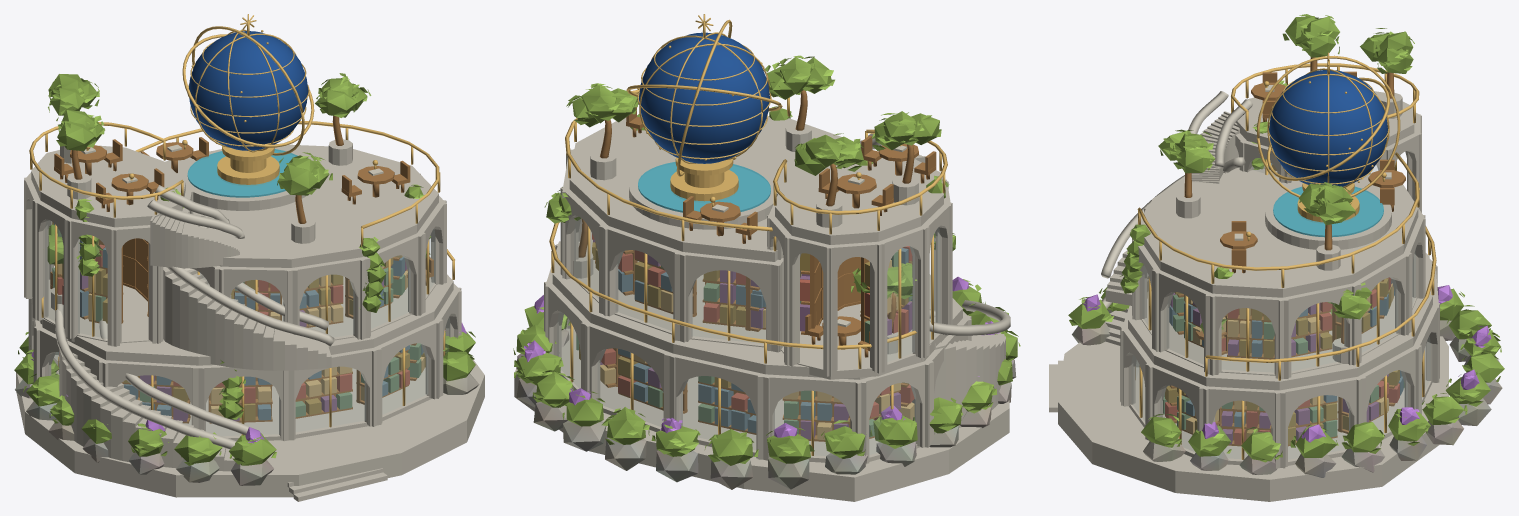
File: wisdom-v01.glb
The picture shows the model from 3 angles, left to right: view 1: azimuth 30°, elevation 25°; view 2: azimuth 150°, elevation 25°; view 3: azimuth 270°, elevation 25°; orthographic projection. The views are drawn at different scales.
Parts seen in each view (by area): view 1: archive-terraces-L1-S1-archive-warm-limestone, archive-wings-L2-S2-archive-warm-limestone, archive-wings-L1-S2-archive-warm-limestone, archive-wings-L3-S2-archive-warm-limestone, archive-globe-L2-S4-archive-celestial-blue, archive-terraces-L2-S1-archive-warm-limestone, archive-wings-L1-S5-archive-clear-window-glass, archive-wings-L1-S3-archive-books-and-walnut, archive-terraces-L2-S4-archive-garden-colors, archive-terraces-L3-S4-archive-garden-colors, archive-wings-L2-S5-archive-clear-window-glass, archive-terraces-L1-S5-archive-warm-limestone (+25 smaller); view 2: archive-wings-L2-S2-archive-warm-limestone, archive-wings-L3-S2-archive-warm-limestone, archive-wings-L1-S2-archive-warm-limestone, archive-terraces-L1-S1-archive-warm-limestone, archive-globe-L2-S4-archive-celestial-blue, archive-wings-L1-S5-archive-clear-window-glass, archive-terraces-L3-S4-archive-garden-colors, archive-terraces-L2-S4-archive-garden-colors, archive-wings-L1-S3-archive-books-and-walnut, archive-wings-L2-S5-archive-clear-window-glass, archive-terraces-L1-S4-archive-garden-colors, archive-wings-L2-S3-archive-books-and-walnut (+27 smaller); view 3: archive-wings-L2-S2-archive-warm-limestone, archive-terraces-L1-S1-archive-warm-limestone, archive-wings-L1-S2-archive-warm-limestone, archive-globe-L2-S4-archive-celestial-blue, archive-wings-L2-S5-archive-clear-window-glass, archive-terraces-L2-S4-archive-garden-colors, archive-terraces-L3-S4-archive-garden-colors, archive-wings-L1-S5-archive-clear-window-glass, archive-wings-L2-S3-archive-books-and-walnut, archive-wings-L1-S3-archive-books-and-walnut, archive-terraces-L1-S4-archive-garden-colors, archive-terraces-L2-S1-archive-warm-limestone (+19 smaller).
Part boxes in pixels (box(x1,y1,x2,y2)): archive-terraces-L1-S1-archive-warm-limestone: box(16, 349, 484, 501); archive-wings-L2-S2-archive-warm-limestone: box(165, 144, 446, 339); archive-wings-L1-S2-archive-warm-limestone: box(28, 256, 461, 441); archive-wings-L3-S2-archive-warm-limestone: box(24, 145, 193, 346); archive-globe-L2-S4-archive-celestial-blue: box(189, 31, 308, 150); archive-terraces-L2-S1-archive-warm-limestone: box(25, 147, 479, 482); archive-wings-L1-S5-archive-clear-window-glass: box(49, 318, 449, 435); archive-wings-L1-S3-archive-books-and-walnut: box(58, 343, 425, 423); archive-terraces-L2-S4-archive-garden-colors: box(18, 73, 475, 465); archive-terraces-L3-S4-archive-garden-colors: box(14, 74, 475, 465); archive-wings-L2-S5-archive-clear-window-glass: box(200, 230, 434, 336); archive-terraces-L1-S5-archive-warm-limestone: box(55, 304, 252, 449); archive-wings-L2-S2-archive-warm-limestone: box(560, 116, 841, 352); archive-wings-L3-S2-archive-warm-limestone: box(767, 158, 952, 376); archive-wings-L1-S2-archive-warm-limestone: box(544, 241, 971, 465); archive-terraces-L1-S1-archive-warm-limestone: box(514, 343, 1016, 501); archive-globe-L2-S4-archive-celestial-blue: box(639, 32, 769, 163); archive-wings-L1-S5-archive-clear-window-glass: box(557, 312, 915, 455); archive-terraces-L3-S4-archive-garden-colors: box(513, 111, 1012, 465); archive-terraces-L2-S4-archive-garden-colors: box(524, 55, 1008, 458); archive-wings-L1-S3-archive-books-and-walnut: box(576, 334, 914, 441); archive-wings-L2-S5-archive-clear-window-glass: box(574, 217, 800, 342); archive-terraces-L1-S4-archive-garden-colors: box(514, 187, 1020, 463); archive-wings-L2-S3-archive-books-and-walnut: box(592, 233, 800, 331); archive-wings-L2-S2-archive-warm-limestone: box(1132, 167, 1425, 379); archive-terraces-L1-S1-archive-warm-limestone: box(1049, 320, 1502, 501); archive-wings-L1-S2-archive-warm-limestone: box(1120, 253, 1439, 468); archive-globe-L2-S4-archive-celestial-blue: box(1269, 70, 1387, 186); archive-wings-L2-S5-archive-clear-window-glass: box(1143, 253, 1415, 371); archive-terraces-L2-S4-archive-garden-colors: box(1099, 129, 1501, 457); archive-terraces-L3-S4-archive-garden-colors: box(1068, 14, 1491, 456); archive-wings-L1-S5-archive-clear-window-glass: box(1132, 337, 1429, 458); archive-wings-L2-S3-archive-books-and-walnut: box(1169, 277, 1394, 359); archive-wings-L1-S3-archive-books-and-walnut: box(1163, 370, 1404, 446); archive-terraces-L1-S4-archive-garden-colors: box(1241, 282, 1504, 462); archive-terraces-L2-S1-archive-warm-limestone: box(1105, 166, 1500, 477).
Bounding box in the file's own units: 2.88 × 2.46 × 2.8.
